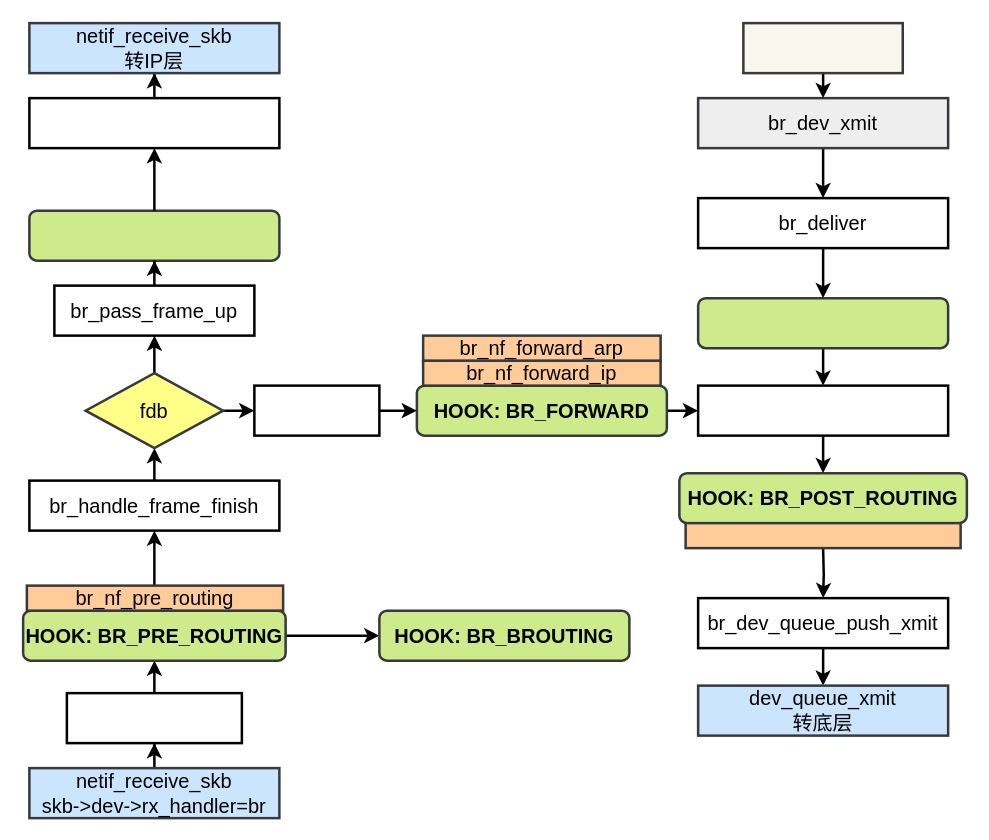
Some shapes in this 989 by 840 pixel diagram are drawn without their labels. The shapes that lost their labels are listed below. From the top down, each one's centre as x and y in pixels, then its label:
At point (822, 47): "在BR发送报文".
At point (154, 122): "br_netif_receive_skb".
At point (154, 235): "HOOK: BR_LOCAL_IN".
At point (822, 322): "HOOK: BR_LOCAL_OUT".
At point (316, 410): "br_forward".
At point (822, 410): "br_forward_finish".
At point (822, 535): "br_nf_post_routing".
At point (153, 717): "br_handle_frame".
